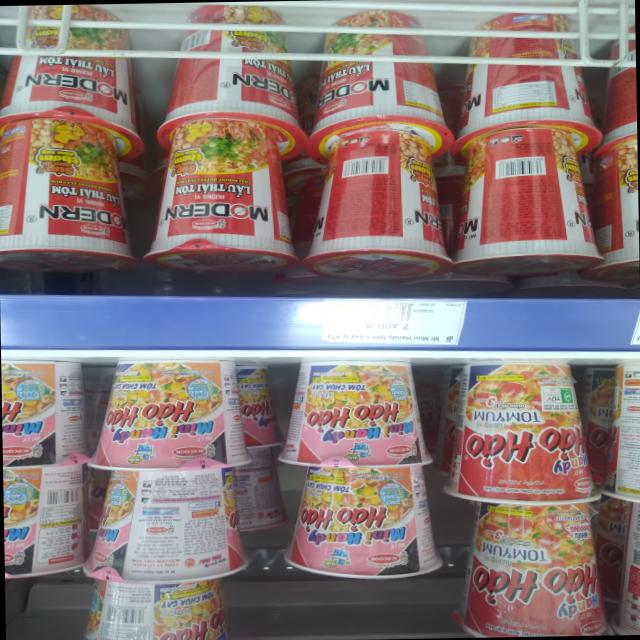mi hao hao: (73, 454, 261, 592), (280, 448, 455, 588), (80, 352, 261, 487), (263, 348, 437, 482)
